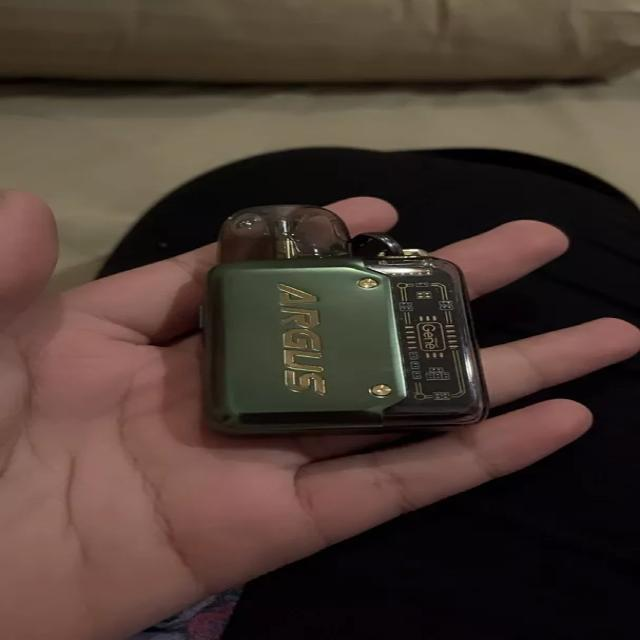Hazard: (195, 202, 496, 438)
